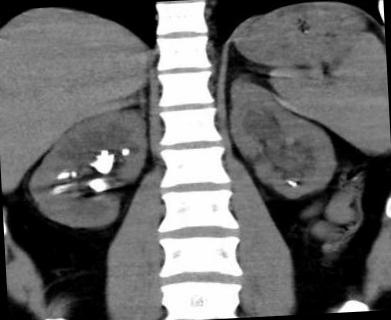Tas_Var: (88, 148, 117, 176), (89, 177, 110, 196), (121, 146, 132, 158), (69, 169, 78, 179), (57, 172, 68, 180), (290, 182, 297, 187), (288, 180, 292, 185)
